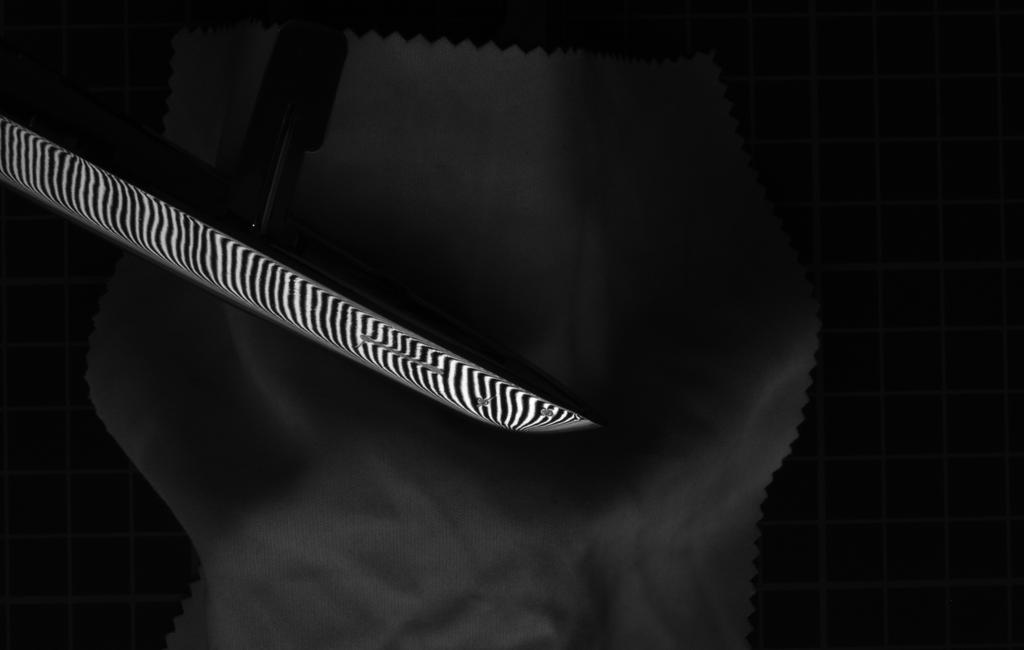Pierced: (536, 404, 559, 422), (472, 393, 497, 409)
Scratch: (352, 326, 456, 388)
